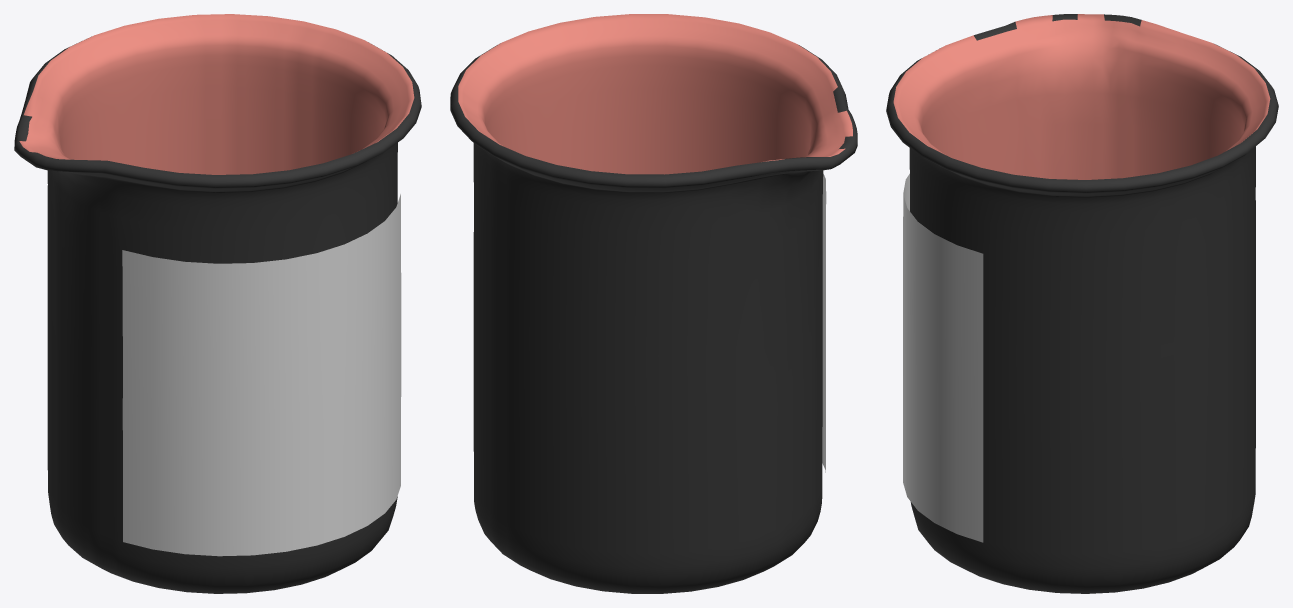
The model's file is beaker_with_label.fbx.
The picture shows the model from 3 angles, left to right: view 1: azimuth 30°, elevation 25°; view 2: azimuth 150°, elevation 25°; view 3: azimuth 270°, elevation 25°; orthographic projection.
Visible parts, largest first — view 1: optimized_beaker.003; view 2: optimized_beaker.003; view 3: optimized_beaker.003.
Part boxes in pixels (left/top/right/bottom): optimized_beaker.003: left=14, top=14, right=421, bottom=593; optimized_beaker.003: left=450, top=14, right=857, bottom=593; optimized_beaker.003: left=886, top=14, right=1278, bottom=593.
Bounding box in the file's own units: 0.3531 × 0.4089 × 0.328.
